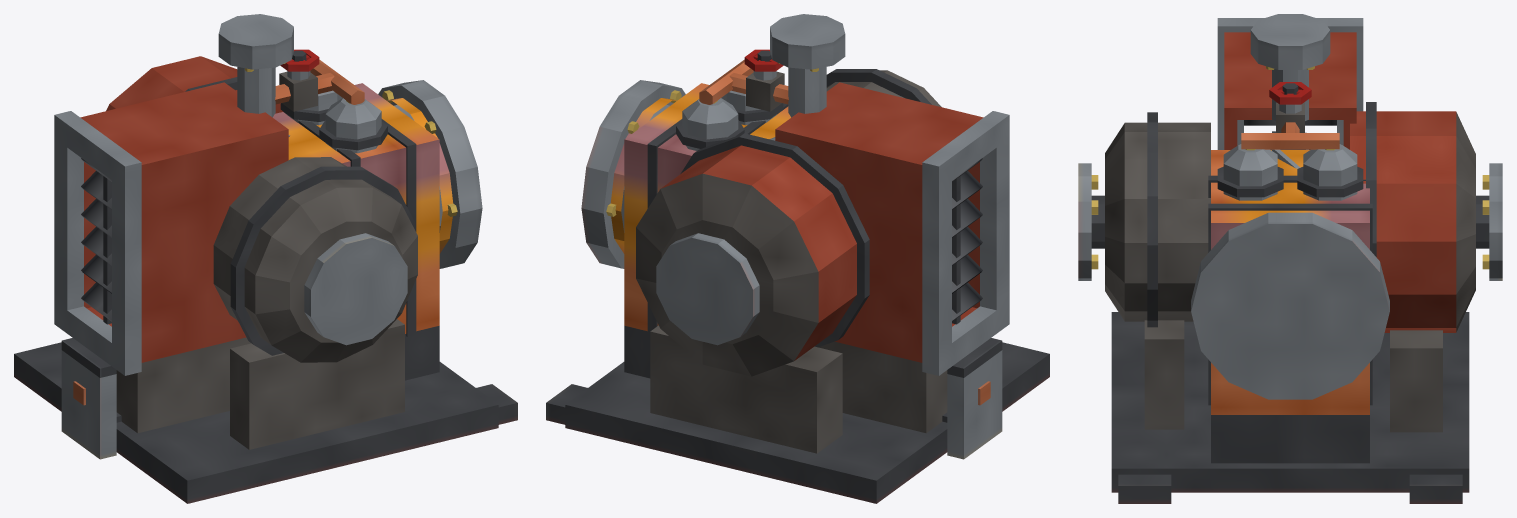
The model's file is shaftgas.obj.
The picture shows the model from 3 angles, left to right: view 1: azimuth 30°, elevation 25°; view 2: azimuth 150°, elevation 25°; view 3: azimuth 270°, elevation 25°; orthographic projection. The views are drawn at different scales.
Visible parts, largest first — view 1: main, rotor, valve; view 2: main, rotor, valve; view 3: main, rotor, valve.
Boxes of the visible parts, left/top/right/bottom form: main: left=14, top=14, right=517, bottom=503; rotor: left=288, top=135, right=407, bottom=345; valve: left=280, top=49, right=319, bottom=71; main: left=546, top=14, right=1049, bottom=503; rotor: left=656, top=137, right=775, bottom=345; valve: left=744, top=49, right=783, bottom=71; main: left=1105, top=14, right=1475, bottom=503; rotor: left=1078, top=131, right=1502, bottom=280; valve: left=1269, top=82, right=1311, bottom=104.
Size of the model in its own units: 1 by 1 by 1.
Materials: 1 (1 with a texture image).
